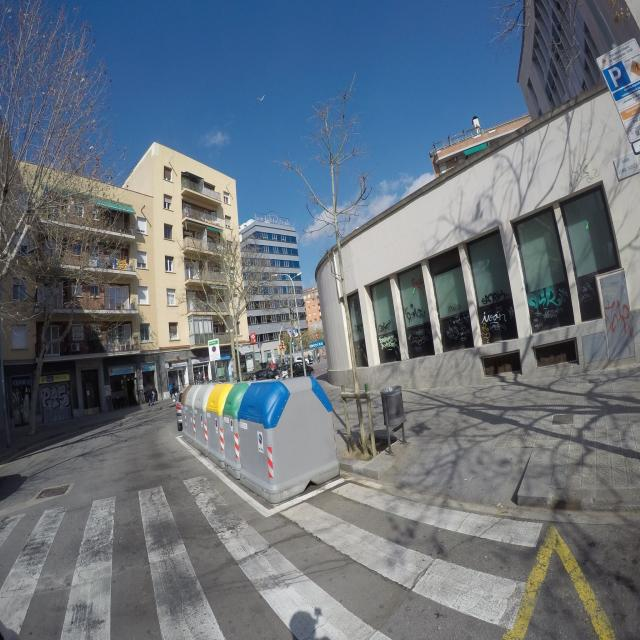forb_stopping: (212, 346, 216, 352)
